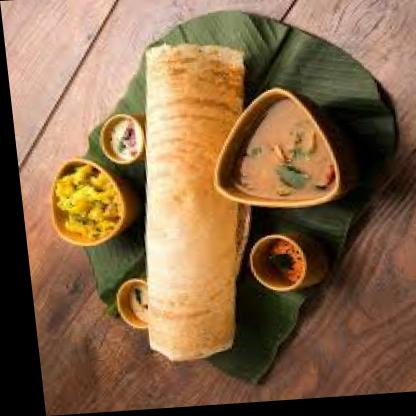dosa: (117, 43, 268, 363)
